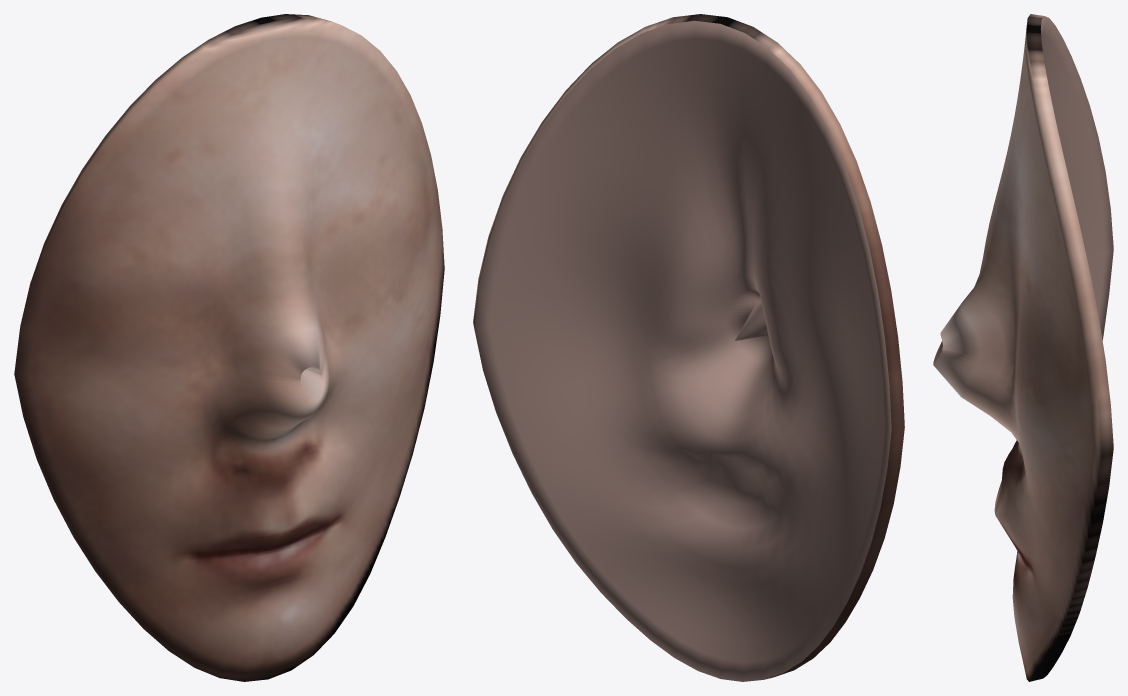
The model's file is mask.glb.
The picture shows the model from 3 angles, left to right: view 1: azimuth 30°, elevation 25°; view 2: azimuth 150°, elevation 25°; view 3: azimuth 270°, elevation 25°; orthographic projection. The views are drawn at different scales.
Visible parts, largest first — view 1: mask_skin_shell; view 2: mask_skin_shell; view 3: mask_skin_shell.
Boxes of the visible parts, x1,y1,x2,y2 form: mask_skin_shell: (14,14,444,681); mask_skin_shell: (473,14,904,681); mask_skin_shell: (933,14,1113,681).
Size of the model in its own units: 0.306 by 0.4466 by 0.1137.
2 materials, 1 textured.
